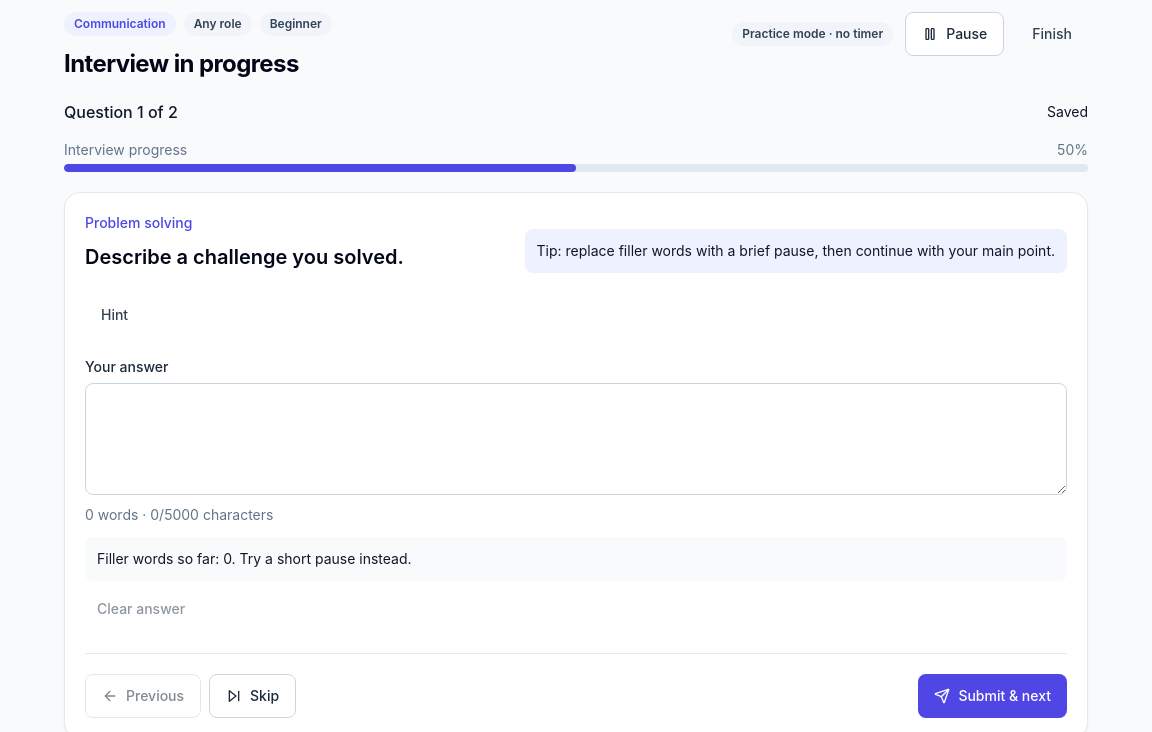
Test: InterviewPage › updates the filler-word count while the user types
Type "Um, I would, like, pause before continuing." into the text box labelled "Your answer" at x=576, y=439, box [85,383,1067,495]
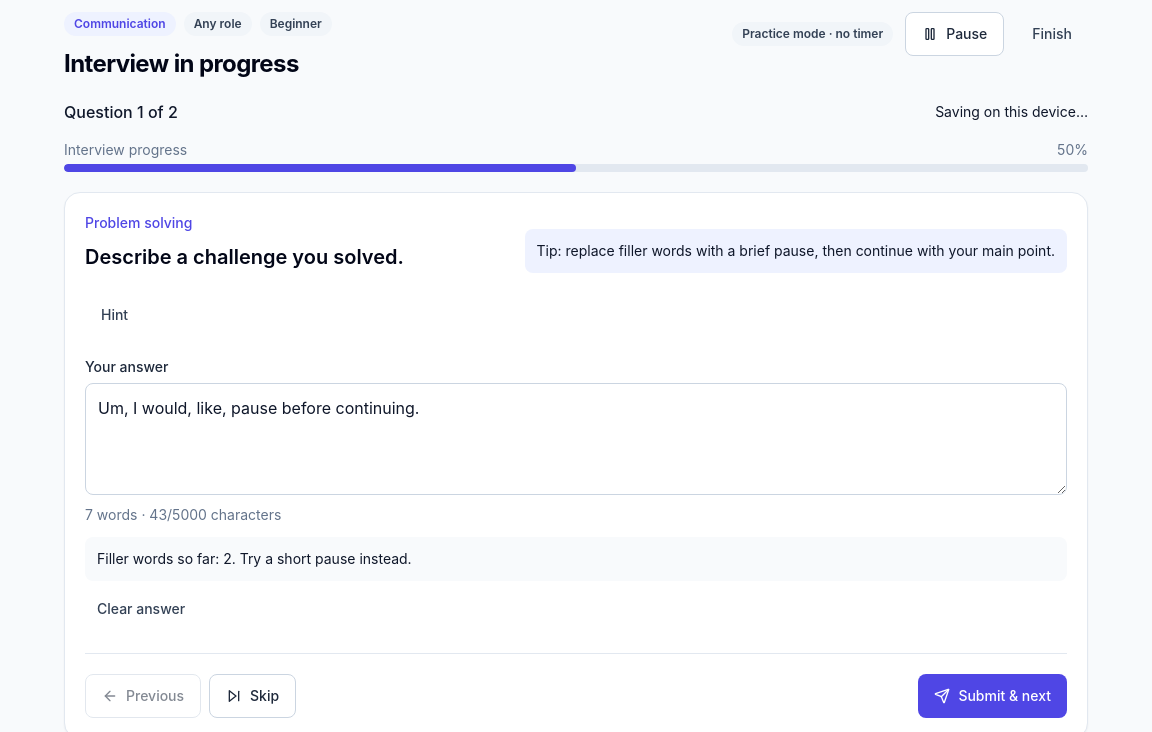
Now the text "Filler words so far: 2. Try a short pause instead." is shown, box [85,537,1067,581]
